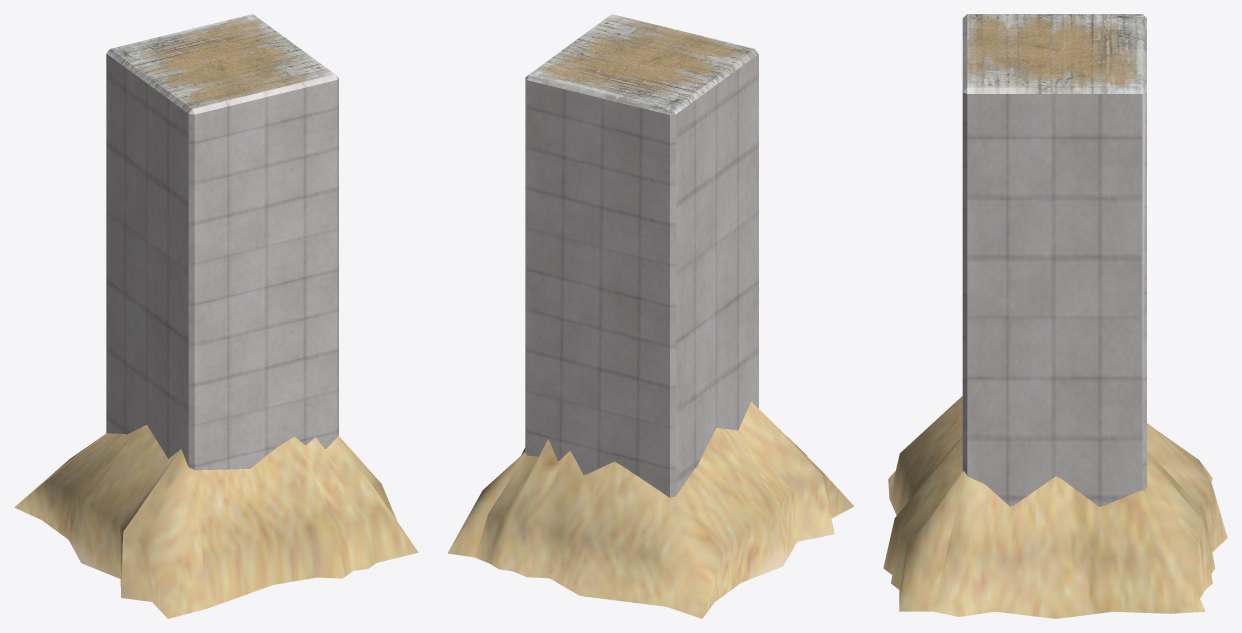
Rendered from TDHus5.fbx.
3 views of the same model, side by side, from view 1: azimuth 30°, elevation 25°; view 2: azimuth 150°, elevation 25°; view 3: azimuth 270°, elevation 25° (orthographic). The views are drawn at different scales.
Parts seen in each view (by area): view 1: TDHus_V; view 2: TDHus_V; view 3: TDHus_V.
Boxes of the visible parts, x1=… form: TDHus_V: x1=14, y1=14, x2=418, y2=618; TDHus_V: x1=448, y1=14, x2=854, y2=618; TDHus_V: x1=883, y1=14, x2=1227, y2=618.
Size of the model in its own units: 46.33 by 72.97 by 45.82.
